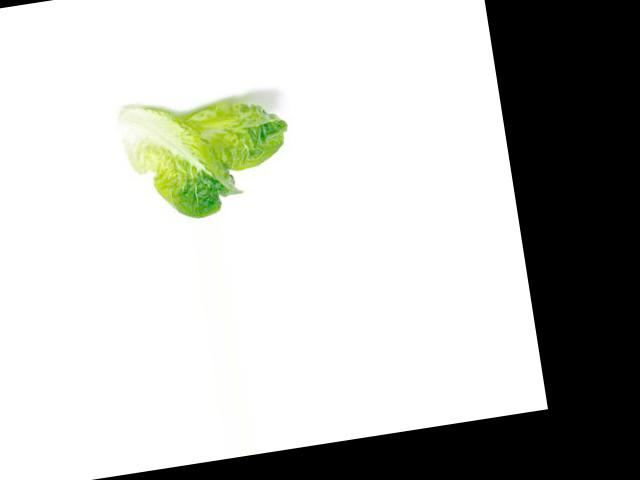lettuce: (117, 84, 295, 223)
